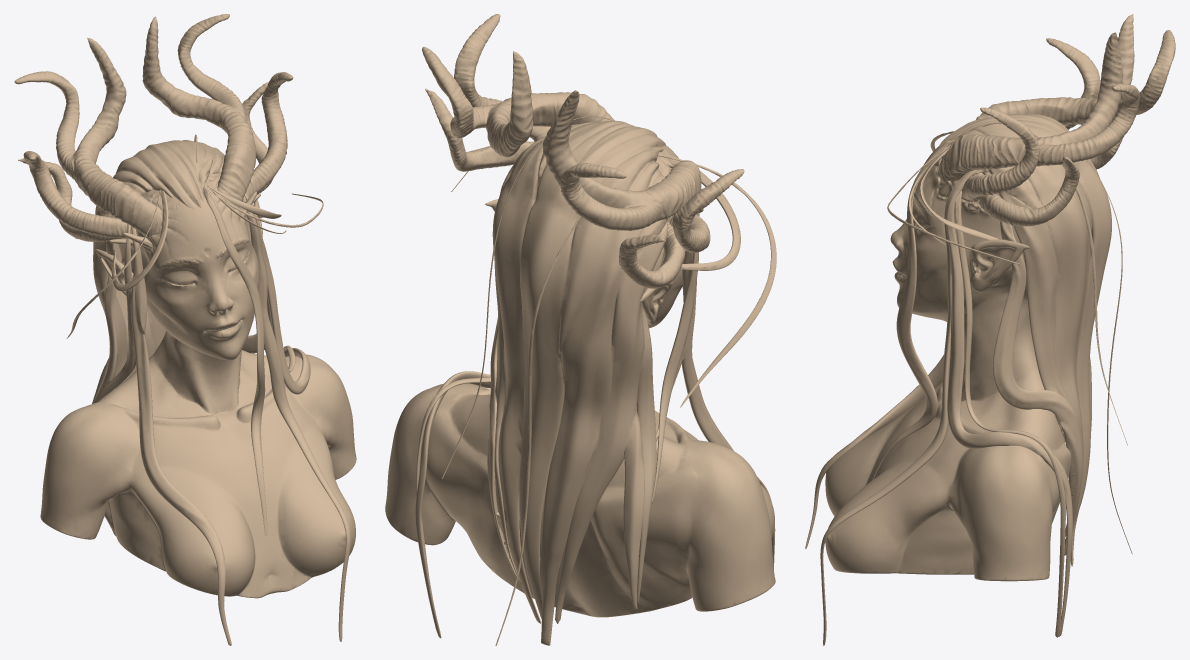
The picture shows the model from 3 angles, left to right: view 1: azimuth 30°, elevation 25°; view 2: azimuth 150°, elevation 25°; view 3: azimuth 270°, elevation 25°; orthographic projection. The views are drawn at different scales.
Parts seen in each view (by area): view 1: Merged_Head_Remeshed_HiLo_UV_Merged_Head_Remeshed_HiLo_UV_0; view 2: Merged_Head_Remeshed_HiLo_UV_Merged_Head_Remeshed_HiLo_UV_0; view 3: Merged_Head_Remeshed_HiLo_UV_Merged_Head_Remeshed_HiLo_UV_0.
Boxes of the visible parts, bbox=[...] form: Merged_Head_Remeshed_HiLo_UV_Merged_Head_Remeshed_HiLo_UV_0: bbox=[14, 14, 356, 645]; Merged_Head_Remeshed_HiLo_UV_Merged_Head_Remeshed_HiLo_UV_0: bbox=[385, 14, 776, 645]; Merged_Head_Remeshed_HiLo_UV_Merged_Head_Remeshed_HiLo_UV_0: bbox=[805, 14, 1175, 645].
Size of the model in its own units: 1.15 by 1.95 by 1.11.
